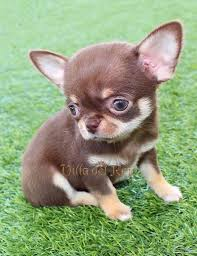chihuahua: (10, 20, 192, 218)
